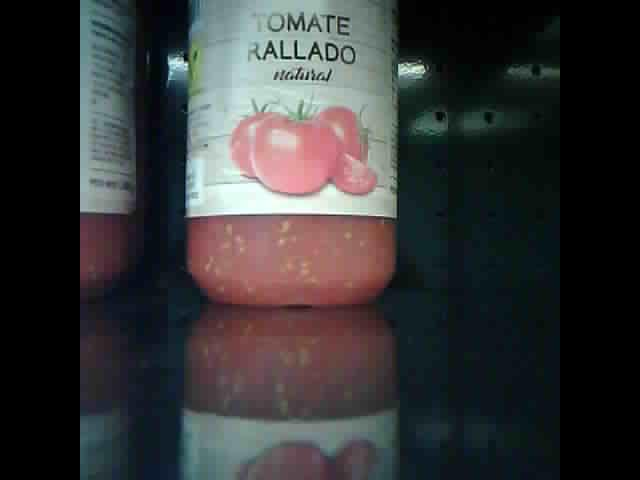tomate: (185, 2, 397, 305), (81, 2, 143, 302)
